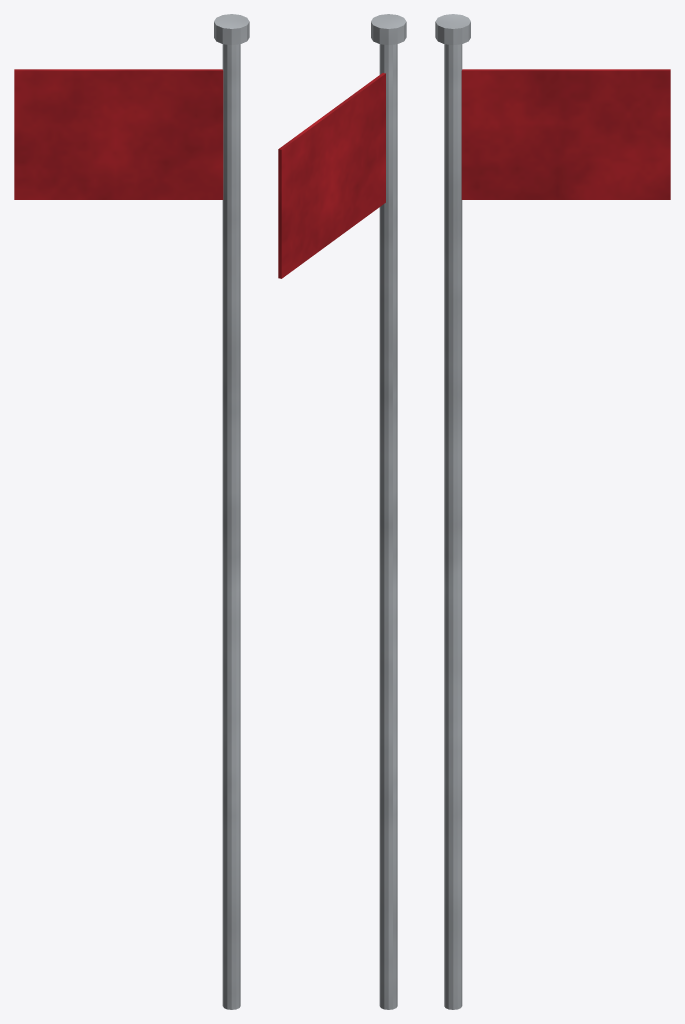
Rendered from flagpole.glb.
3 renders of one model, left to right at view 1: azimuth 90°, elevation 25°; view 2: azimuth 150°, elevation 25°; view 3: azimuth 270°, elevation 25°, orthographic.
Parts seen in each view (by area): view 1: flag_cloth, flag_pole; view 2: flag_pole, flag_cloth; view 3: flag_cloth, flag_pole.
Boxes of the visible parts, bbox=[...] form: flag_cloth: bbox=[14, 69, 223, 199]; flag_pole: bbox=[214, 14, 249, 1009]; flag_pole: bbox=[371, 14, 406, 1009]; flag_cloth: bbox=[278, 73, 385, 278]; flag_cloth: bbox=[461, 69, 670, 199]; flag_pole: bbox=[435, 14, 470, 1009].
Size of the model in its own units: 0.1999 by 6.1 by 1.32.
2 materials, 2 textured.
